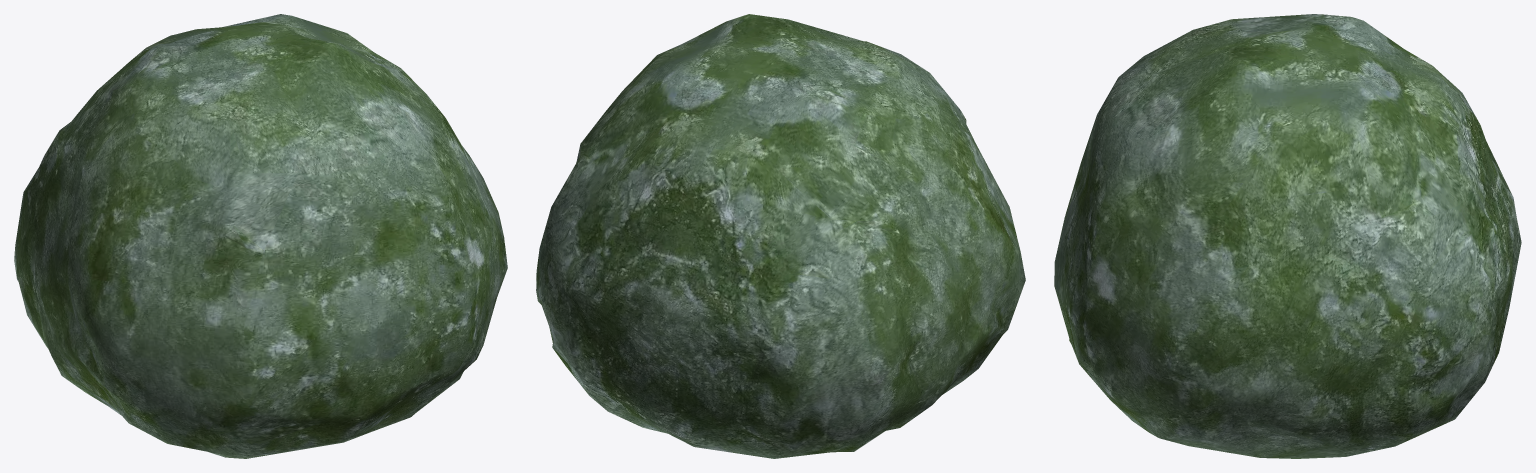
File: boulder.glb
3 views of the same model, side by side, from view 1: azimuth 30°, elevation 25°; view 2: azimuth 150°, elevation 25°; view 3: azimuth 270°, elevation 25° (orthographic). The views are drawn at different scales.
Parts seen in each view (by area): view 1: Mesh_0; view 2: Mesh_0; view 3: Mesh_0.
Boxes of the visible parts, x1,y1,x2,y2 form: Mesh_0: (14, 14, 507, 458); Mesh_0: (536, 14, 1025, 458); Mesh_0: (1054, 14, 1521, 458).
Size of the model in its own units: 1.89 by 1.69 by 1.85.
1 material, 1 textured.
